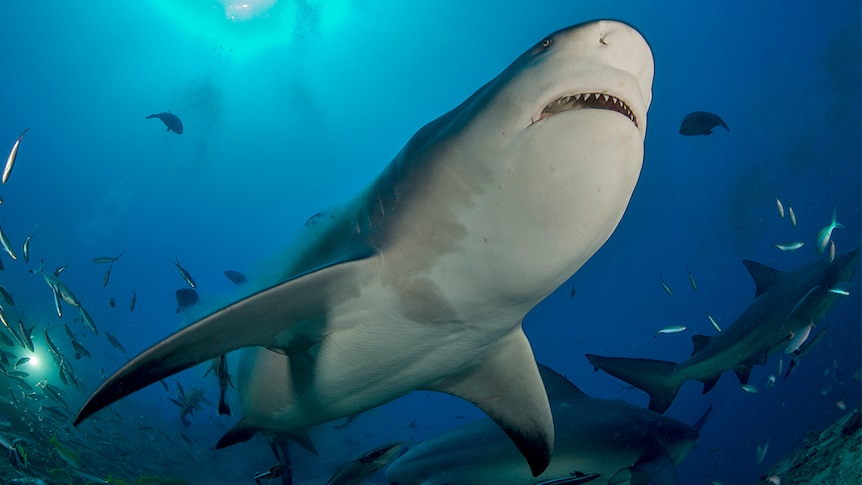shark: (63, 11, 663, 461), (585, 227, 862, 414)
